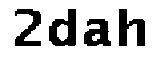2: (10, 6, 44, 50)
a: (84, 17, 114, 50)
d: (48, 5, 82, 50)
h: (117, 2, 148, 49)
